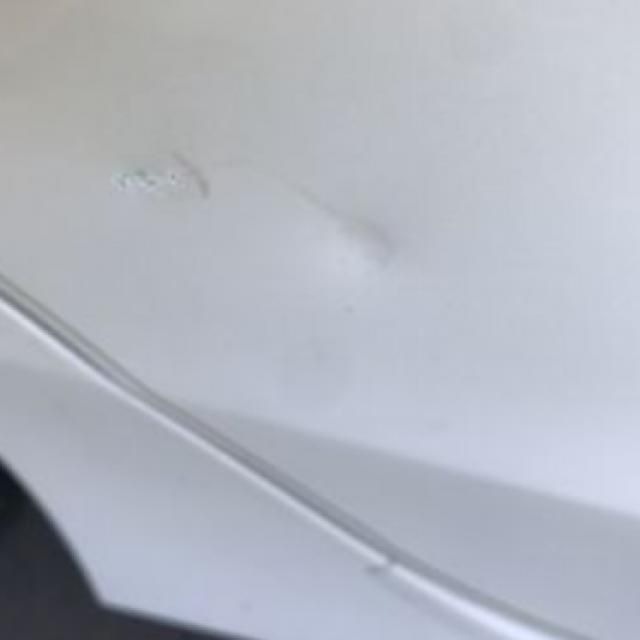dents: (271, 156, 417, 285), (116, 135, 222, 231)
